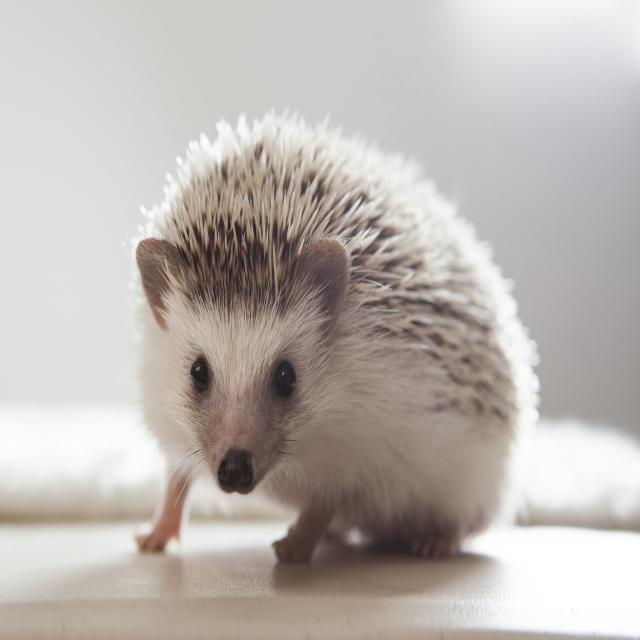hedgehog: (133, 114, 538, 562)
